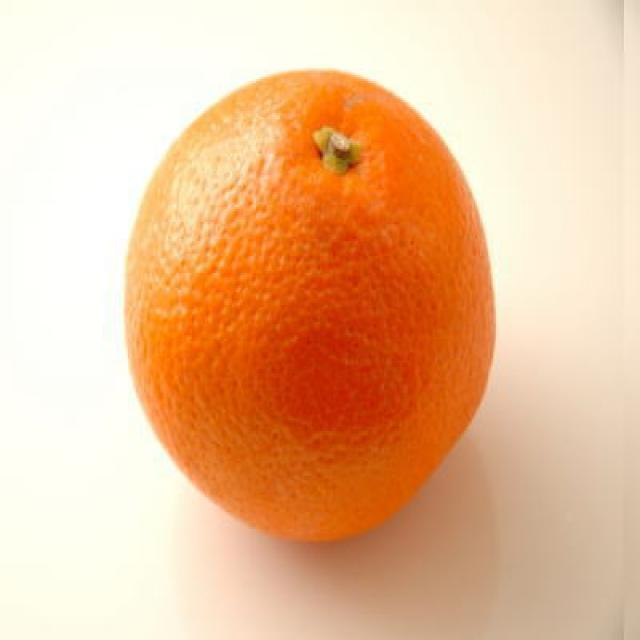Orange: (131, 60, 499, 541)
